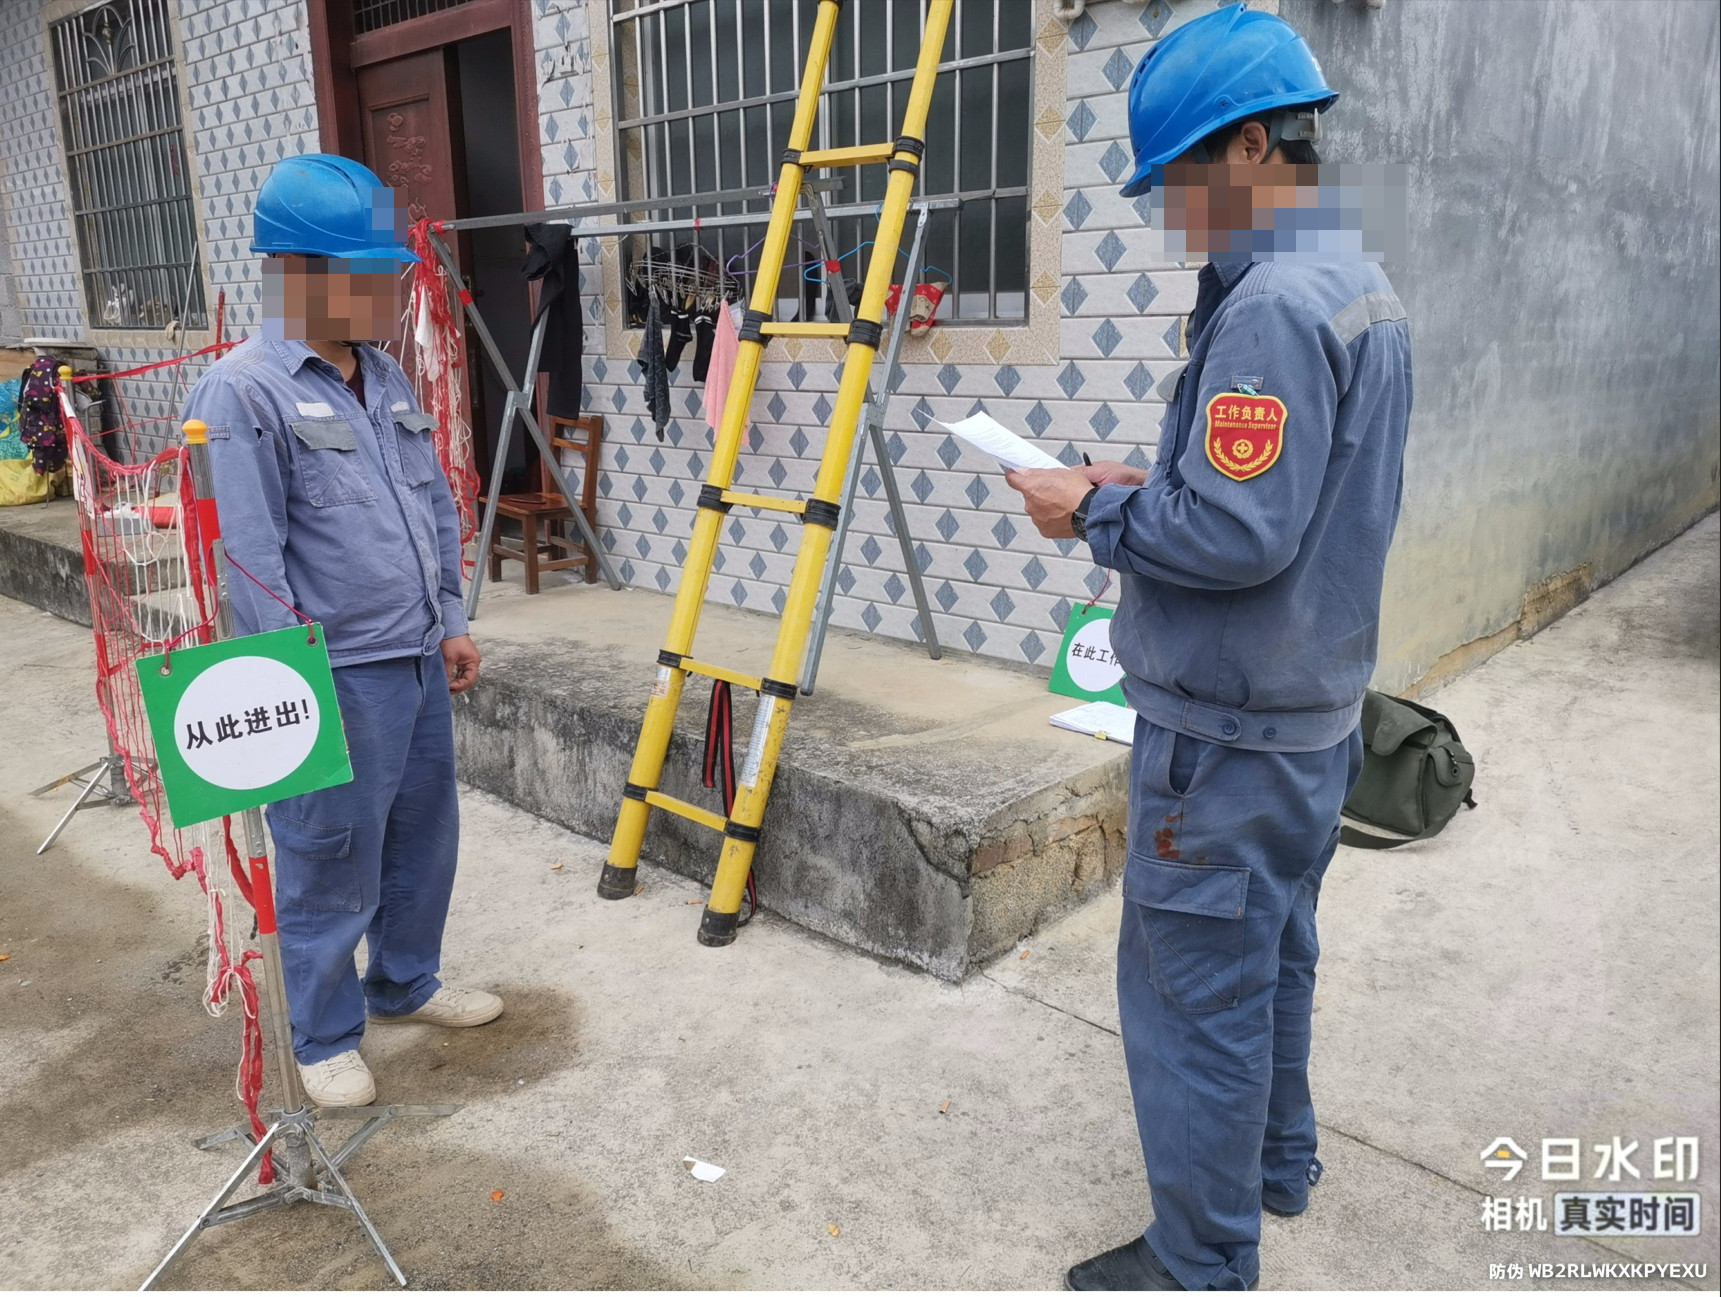downsuit: (1111, 748, 1356, 1277), (266, 666, 465, 1064)
halt: (1121, 7, 1347, 235), (253, 152, 416, 340)
hand: (999, 459, 1095, 543), (444, 637, 484, 691)
inear: (1184, 115, 1288, 209), (260, 243, 339, 326)
intosign: (136, 619, 358, 831)
person: (1023, 1, 1414, 1292), (184, 146, 498, 1086)
sleeve: (1201, 384, 1294, 482)
upsuit: (1081, 198, 1421, 729), (194, 320, 474, 657)
worksign: (1049, 599, 1134, 707)
